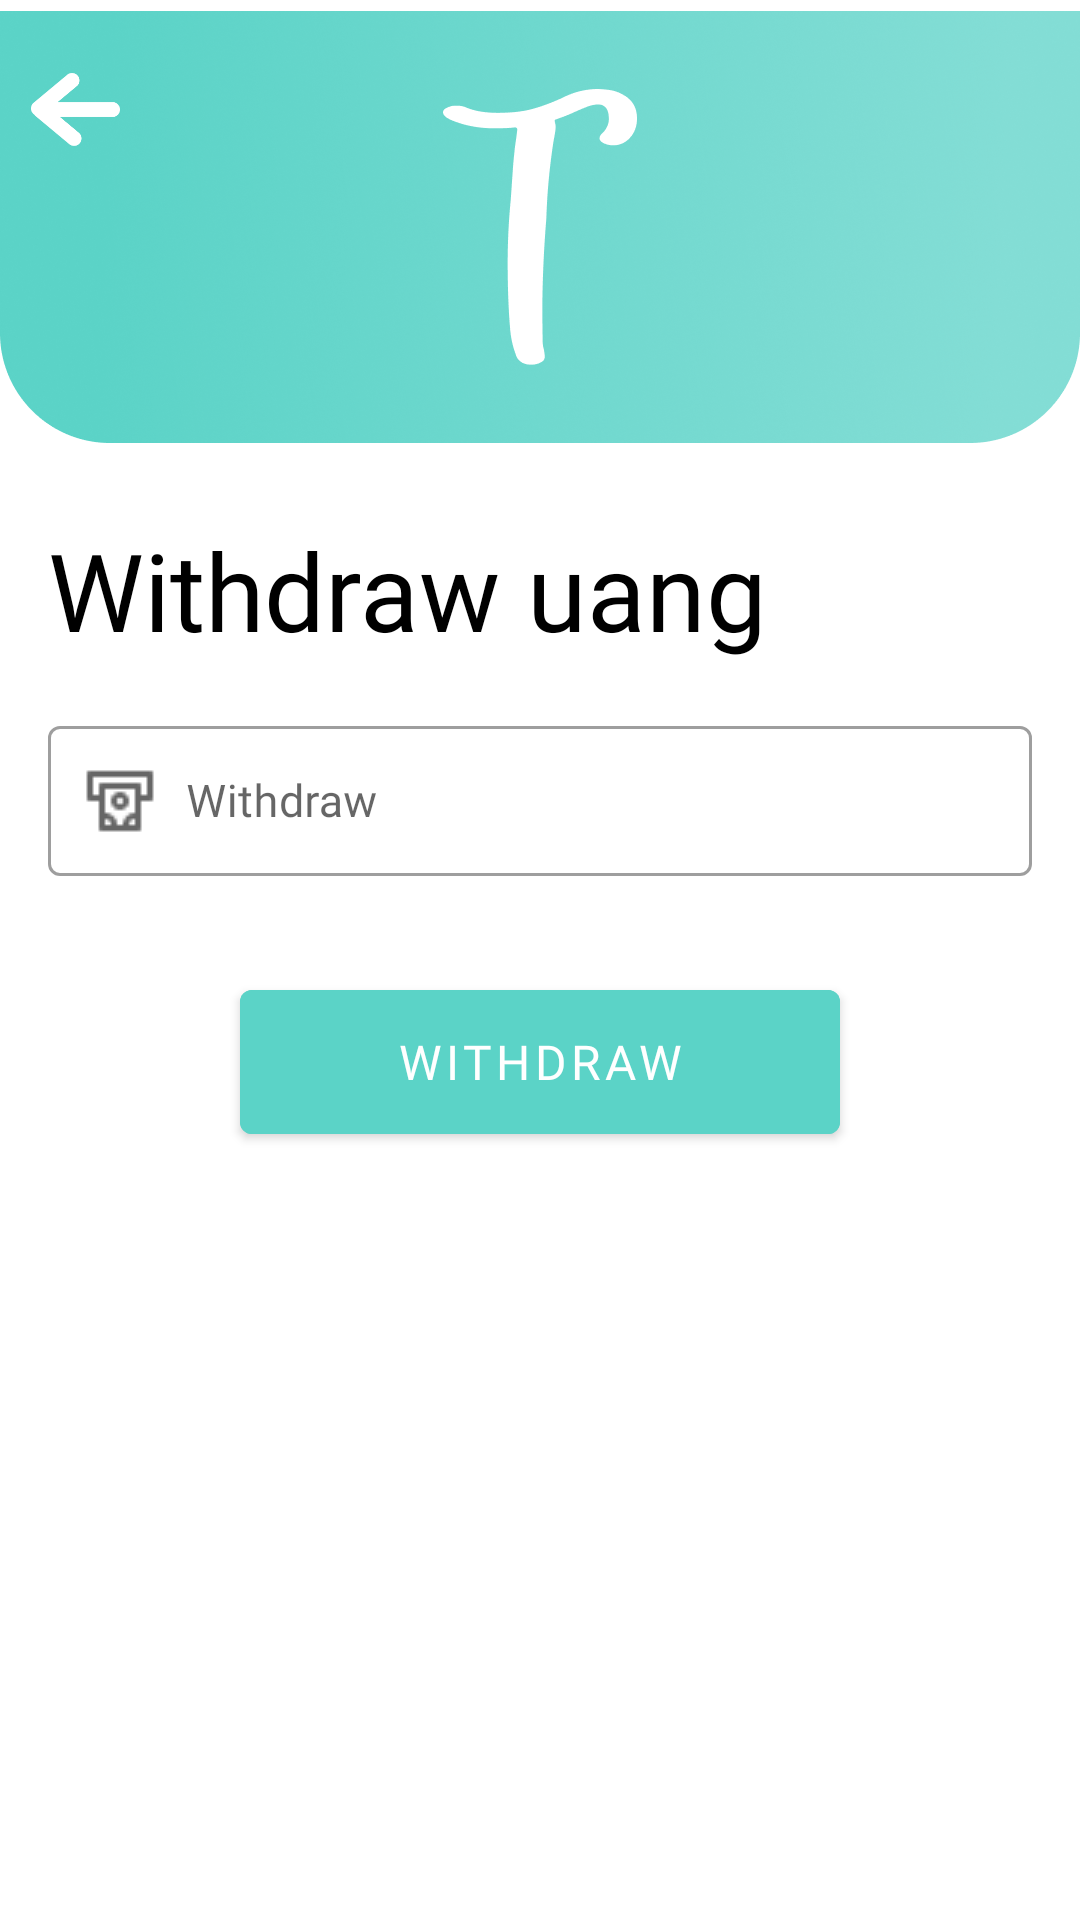

Screen size 1080 × 1920. Icon name, then its center in pixels as (x,y):
back: (75,109)
